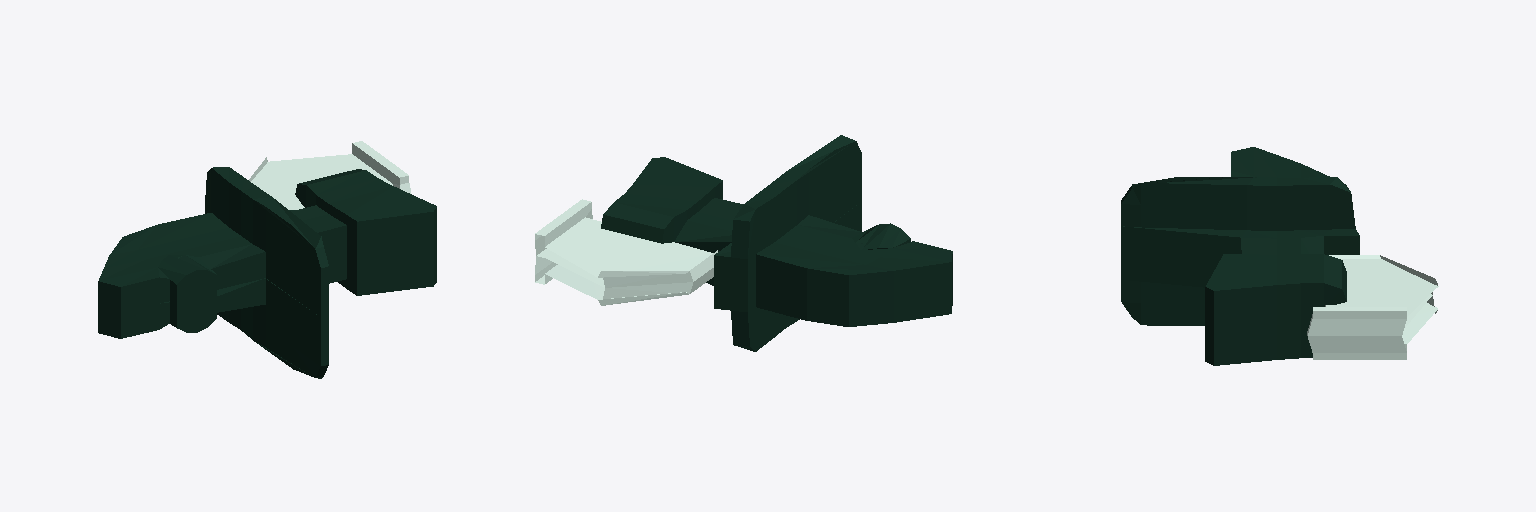
The model's file is thruster.obj.
The picture shows the model from 3 angles: view 1: azimuth 30°, elevation 25°; view 2: azimuth 150°, elevation 25°; view 3: azimuth 270°, elevation 25°; orthographic projection.
Parts seen in each view (by area): view 1: Cabin_Plane.001_Windows.004; view 2: Cabin_Plane.001_Windows.004; view 3: Cabin_Plane.001_Windows.004.
Boxes of the visible parts, box(x1,y1,x2,y2) form: Cabin_Plane.001_Windows.004: box(98, 141, 436, 378); Cabin_Plane.001_Windows.004: box(535, 135, 952, 351); Cabin_Plane.001_Windows.004: box(1121, 147, 1438, 365).
Size of the model in its own units: 0.7503 by 0.3004 by 0.6036.